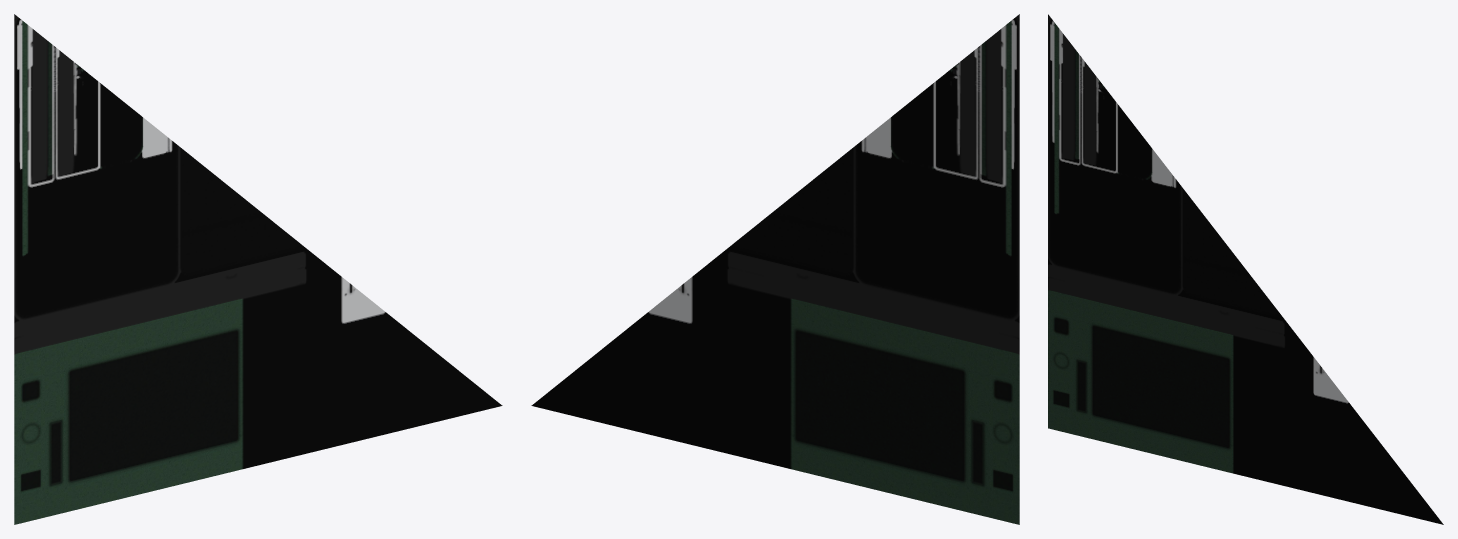
File: film_skin_green.glb
3 views of the same model, side by side, from view 1: azimuth 30°, elevation 25°; view 2: azimuth 150°, elevation 25°; view 3: azimuth 330°, elevation 25° (orthographic). The views are drawn at different scales.
Parts seen in each view (by area): view 1: swatch; view 2: swatch; view 3: swatch.
Part boxes in pixels (<box>): swatch: <box>14,14,502,524</box>; swatch: <box>531,14,1019,524</box>; swatch: <box>1048,14,1443,524</box>.
Bounding box in the file's own units: 1 × 1 × 0.
Materials: 1 (1 with a texture image).
